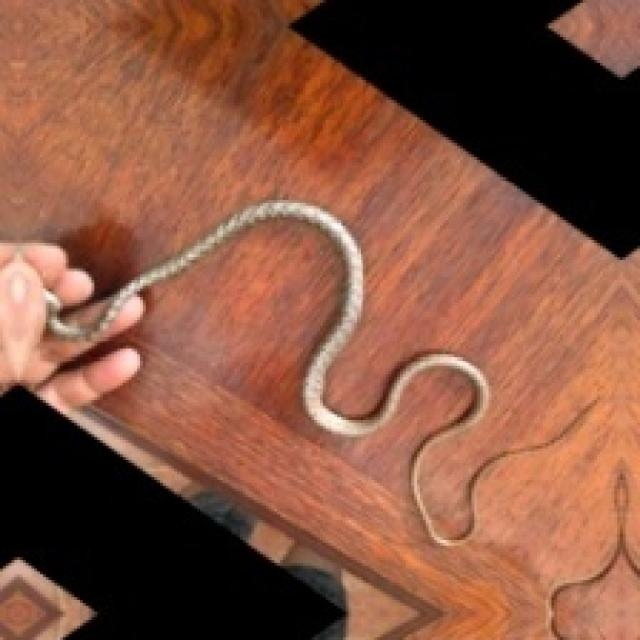philippine whip snake: (46, 200, 486, 440), (46, 200, 489, 434), (411, 389, 597, 547)
